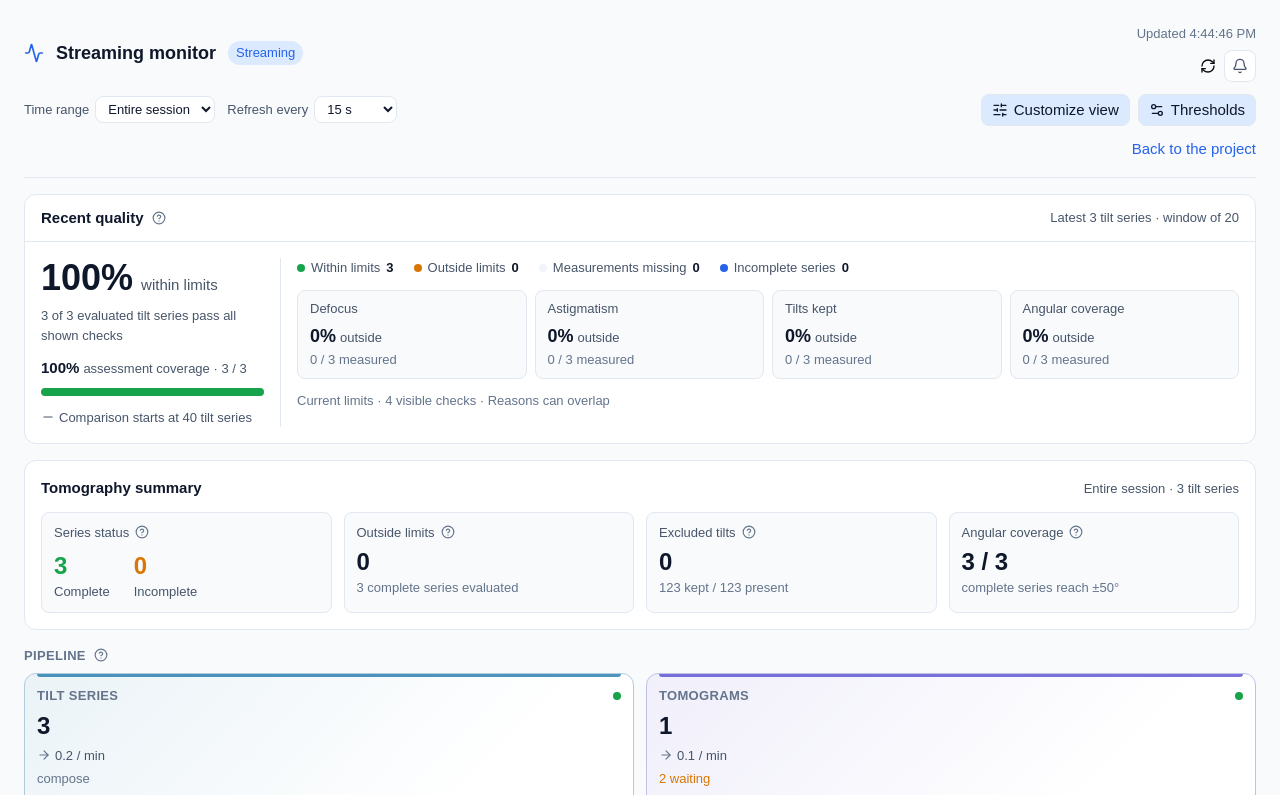
Scenario: The tomography view of the monitor › changes the tomography summary window independently of SPA
This screenshot has width=1280, height=795.
Expected: the element named "Quality summary" is shown, [24,194,1256,444]
Click the button "Thresholds" at (1197, 110), box [1138,94,1256,126]
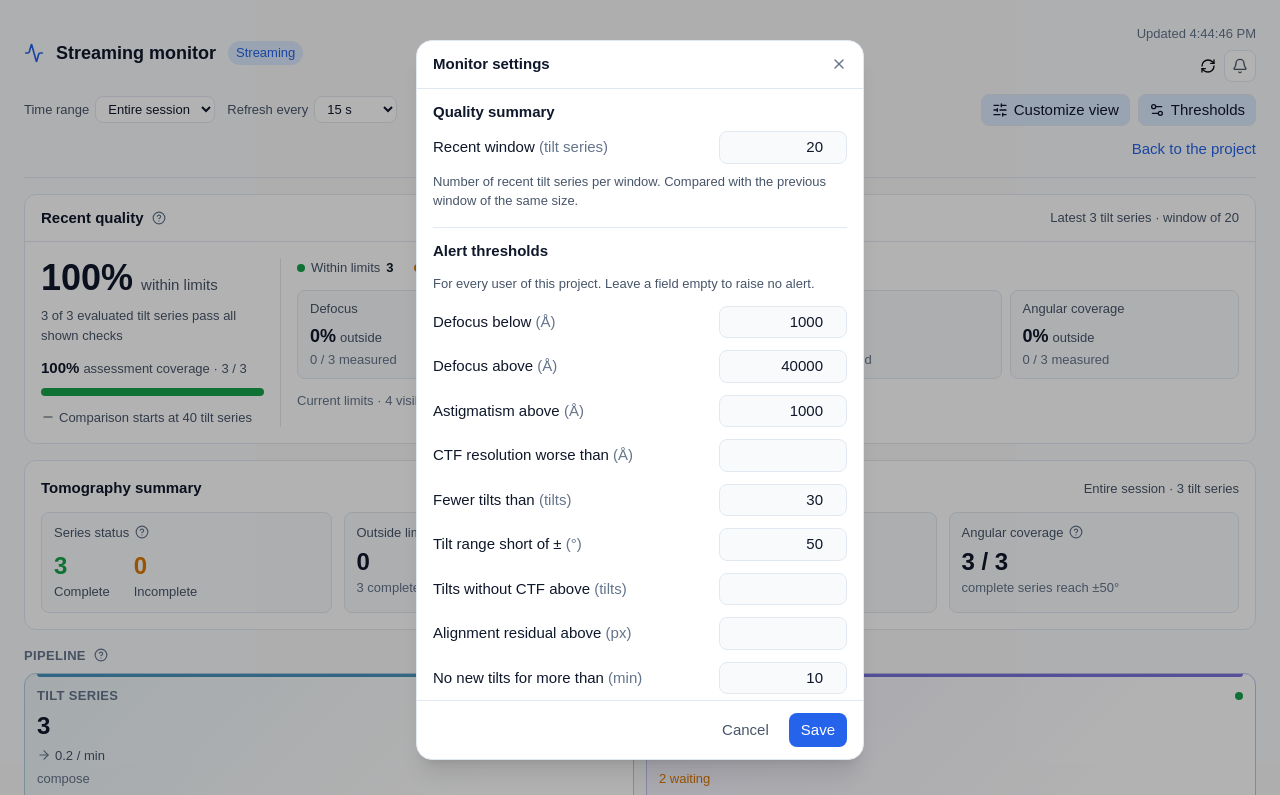
Expected: the number field named "Quality summary window" holds "20"
Replace the text in the number field named "Quality summary window" with "2" at (783, 147), box [719,131,847,164]
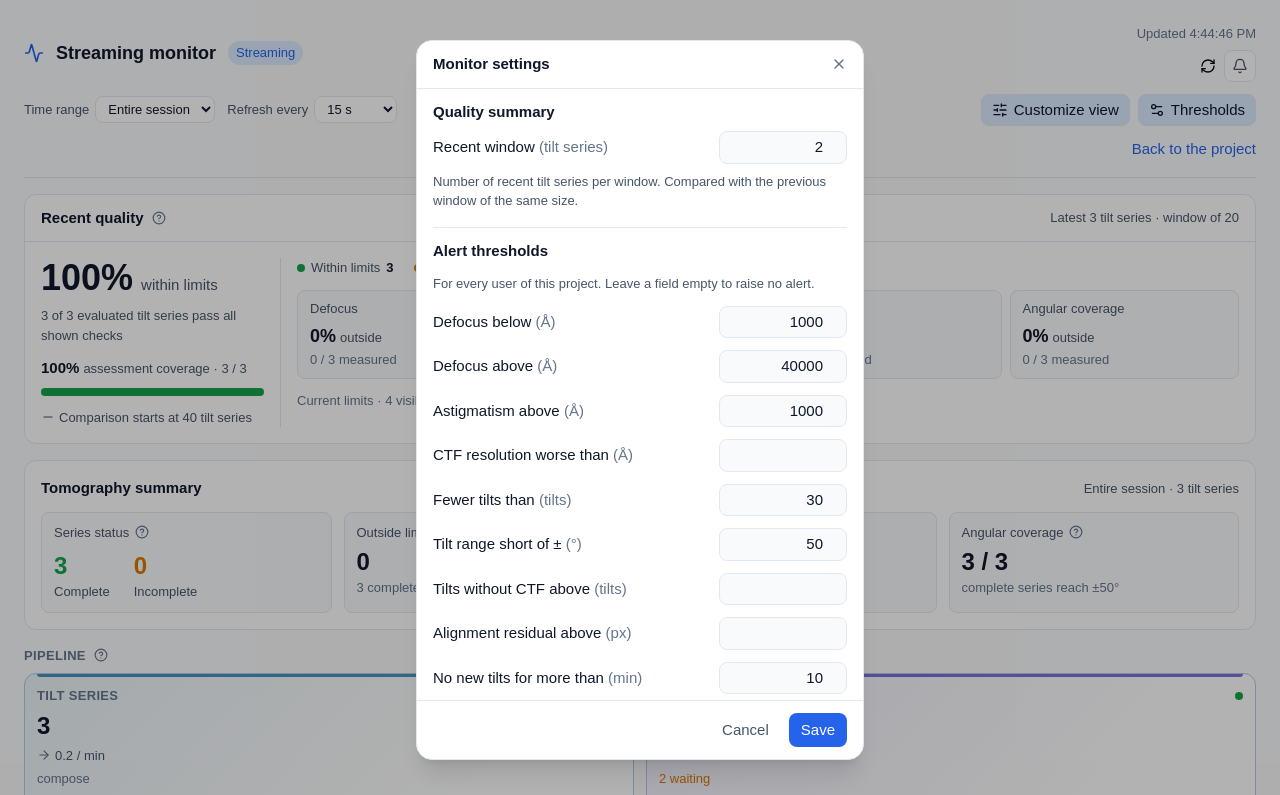
Click the button "Save" at (818, 730), box [789,712,847,747]
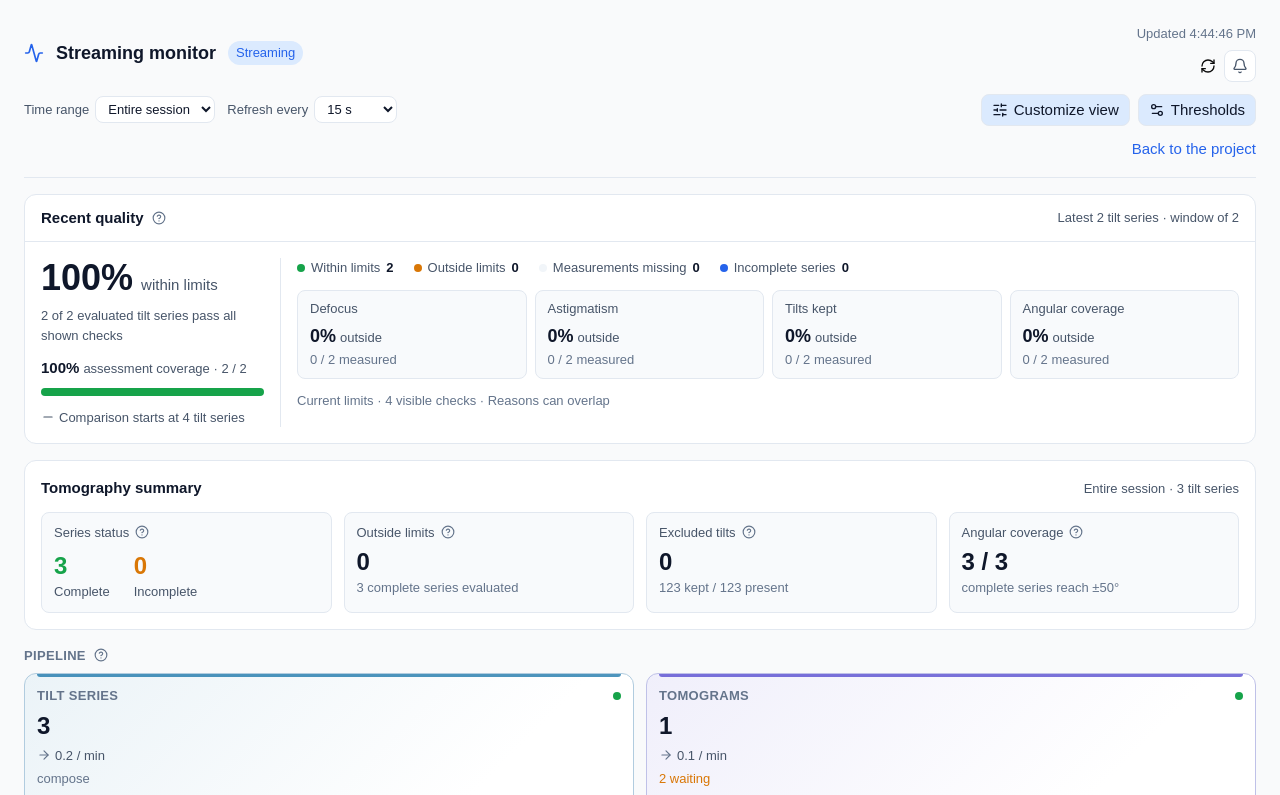
Expected: the text "Latest 2 tilt series · window of 2" is shown, [1058,208,1239,228]
